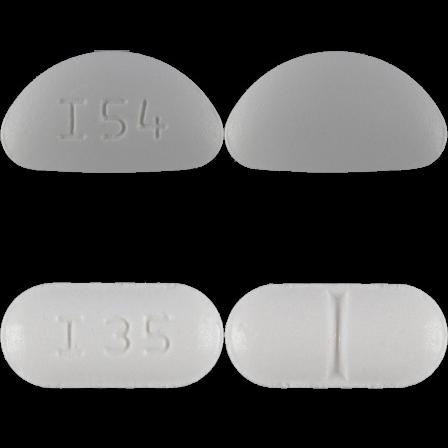23155-055: (0, 0, 224, 224)
